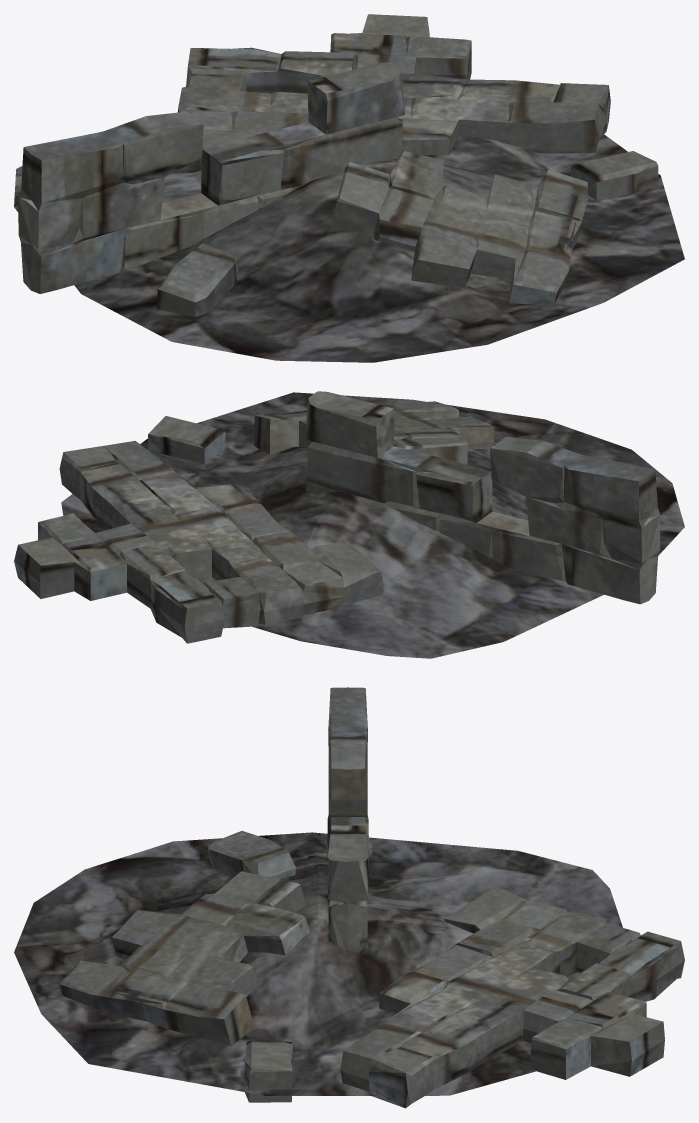
Rendered from Ruins 1.fbx.
3 views of the same model, one above another, from view 1: azimuth 30°, elevation 25°; view 2: azimuth 150°, elevation 25°; view 3: azimuth 270°, elevation 25° (orthographic). The views are drawn at different scales.
Visible parts, largest first — view 1: Ruins 1; view 2: Ruins 1; view 3: Ruins 1.
Part boxes in pixels (box(x1,y1,x2,y2)): Ruins 1: box(14, 14, 684, 362); Ruins 1: box(14, 391, 684, 658); Ruins 1: box(14, 687, 684, 1108).
Size of the model in its own units: 1629 by 390 by 1587.
Materials: 1 (1 with a texture image).
